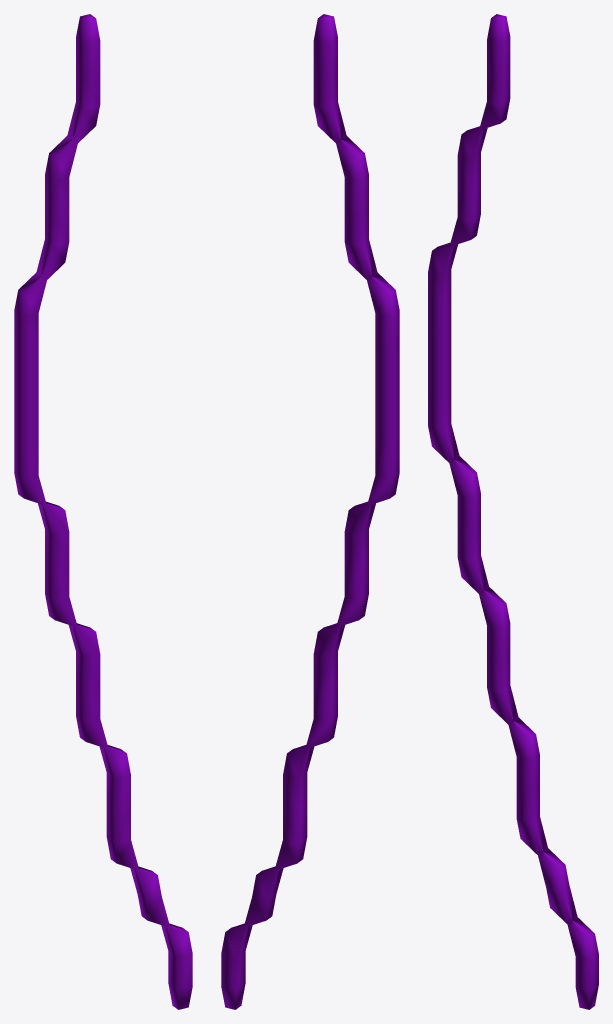
3 views of the same model, side by side, from view 1: azimuth 30°, elevation 25°; view 2: azimuth 150°, elevation 25°; view 3: azimuth 330°, elevation 25° (orthographic). The views are drawn at different scales.
Size of the model in its own units: 0.275 by 1.57 by 0.03.
